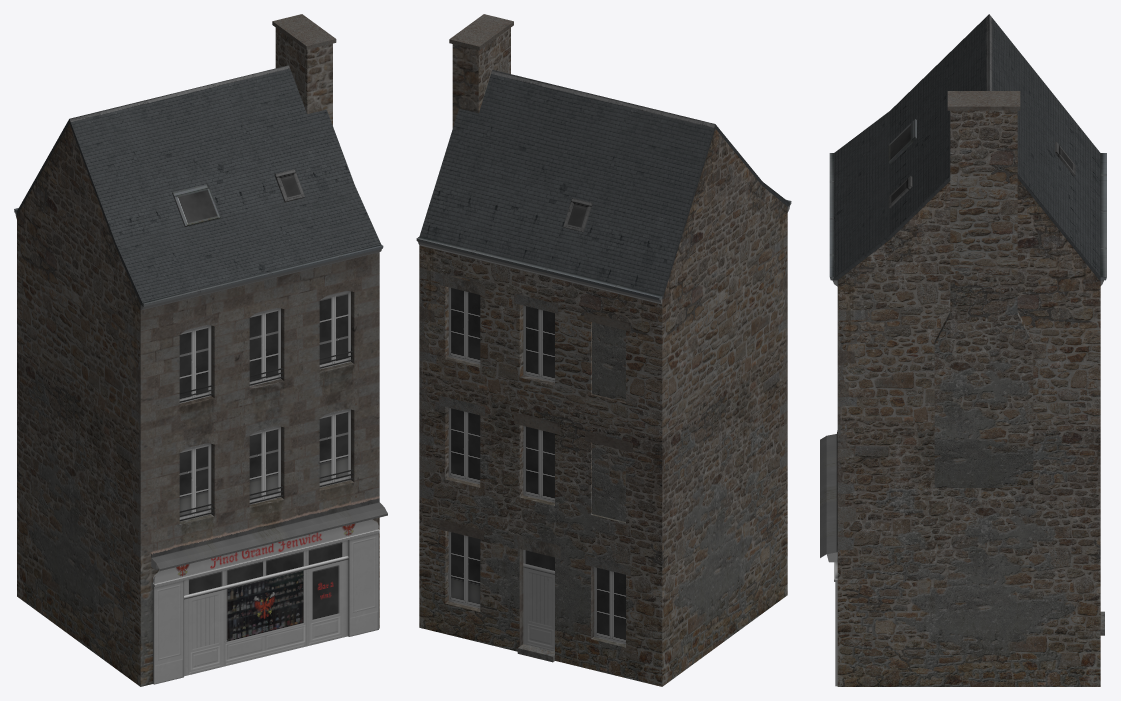
Rendered from Guingamp Shop 1 France.glb.
3 views of the same model, side by side, from view 1: azimuth 30°, elevation 25°; view 2: azimuth 150°, elevation 25°; view 3: azimuth 270°, elevation 25° (orthographic). The views are drawn at different scales.
Visible parts, largest first — view 1: guingamp 1; view 2: guingamp 1; view 3: guingamp 1.
Boxes of the visible parts, x1,y1,x2,y2 form: guingamp 1: (14, 14, 387, 686); guingamp 1: (416, 14, 791, 686); guingamp 1: (820, 14, 1106, 686).
Size of the model in its own units: 6.93 by 14.72 by 6.54.
Materials: 1 (1 with a texture image).
